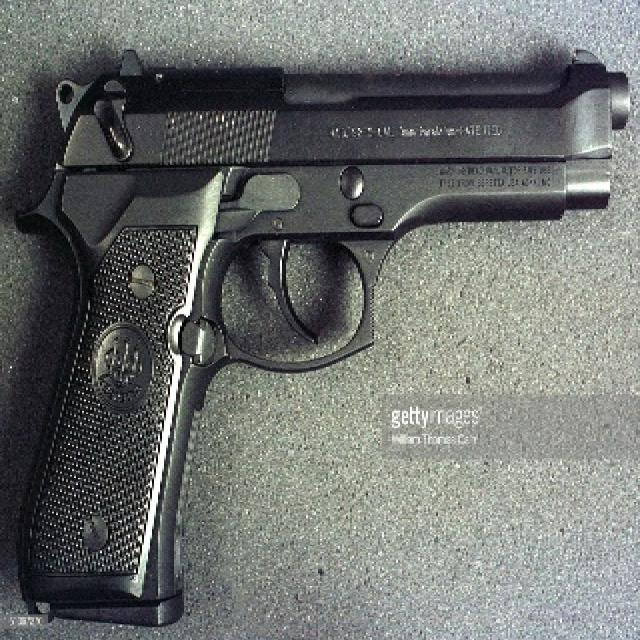handgun: (14, 36, 626, 624)
